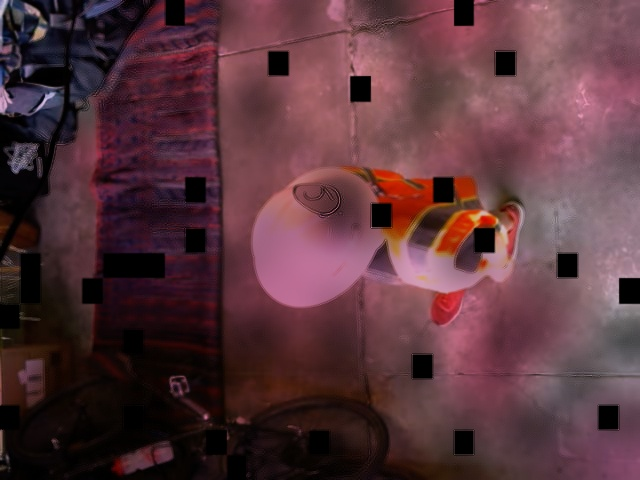two: (291, 183, 340, 215)
